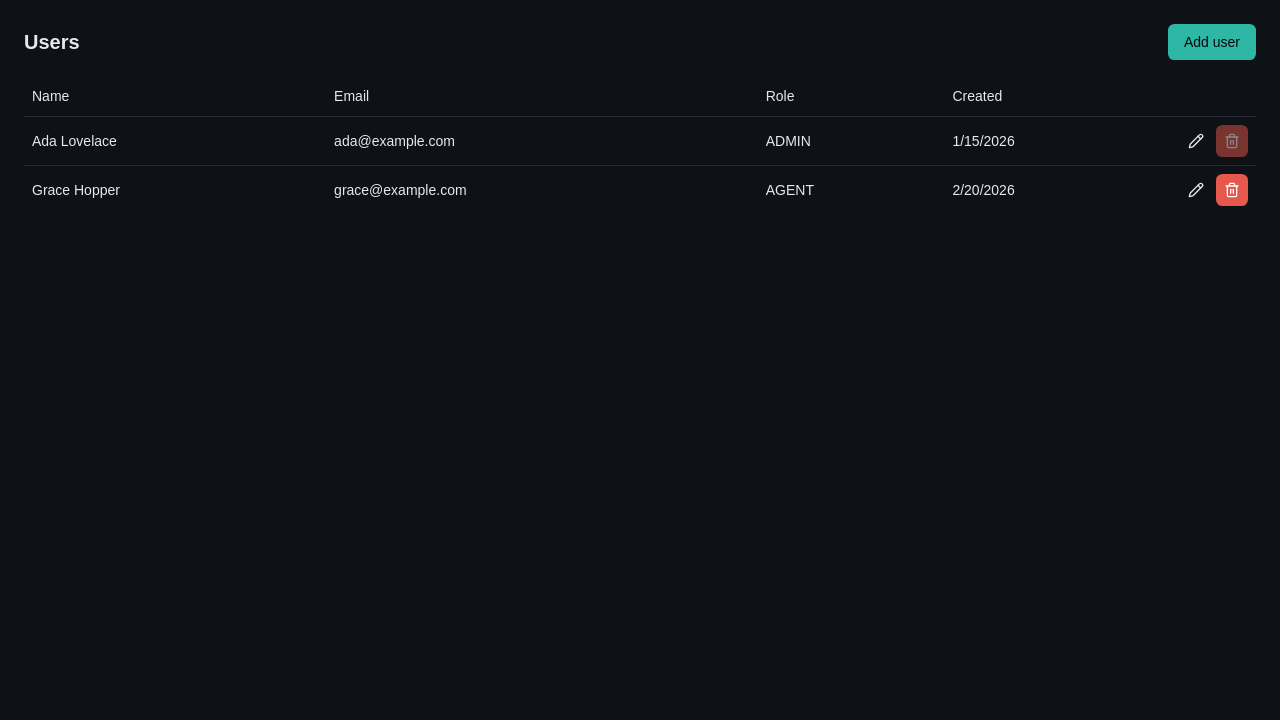
Test case: Users › deletes a user from the row's delete button after confirming
Expected: the text "Grace Hopper" is shown, [24,165,326,214]
Click the button named "Delete Grace Hopper": (1232, 190) [1216,174,1248,206]
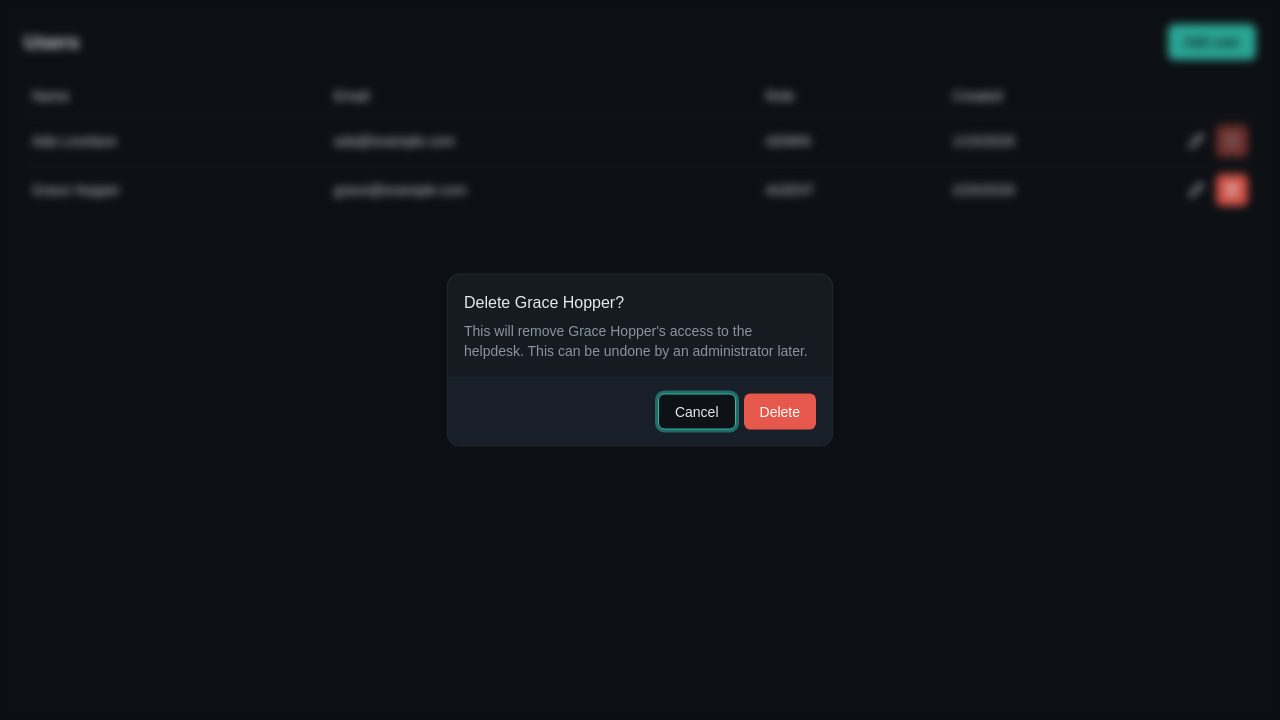
Now the heading "Delete Grace Hopper?" is shown, box [464,290,624,314]
Click the button "Delete": (780, 412) [744,394,816,430]
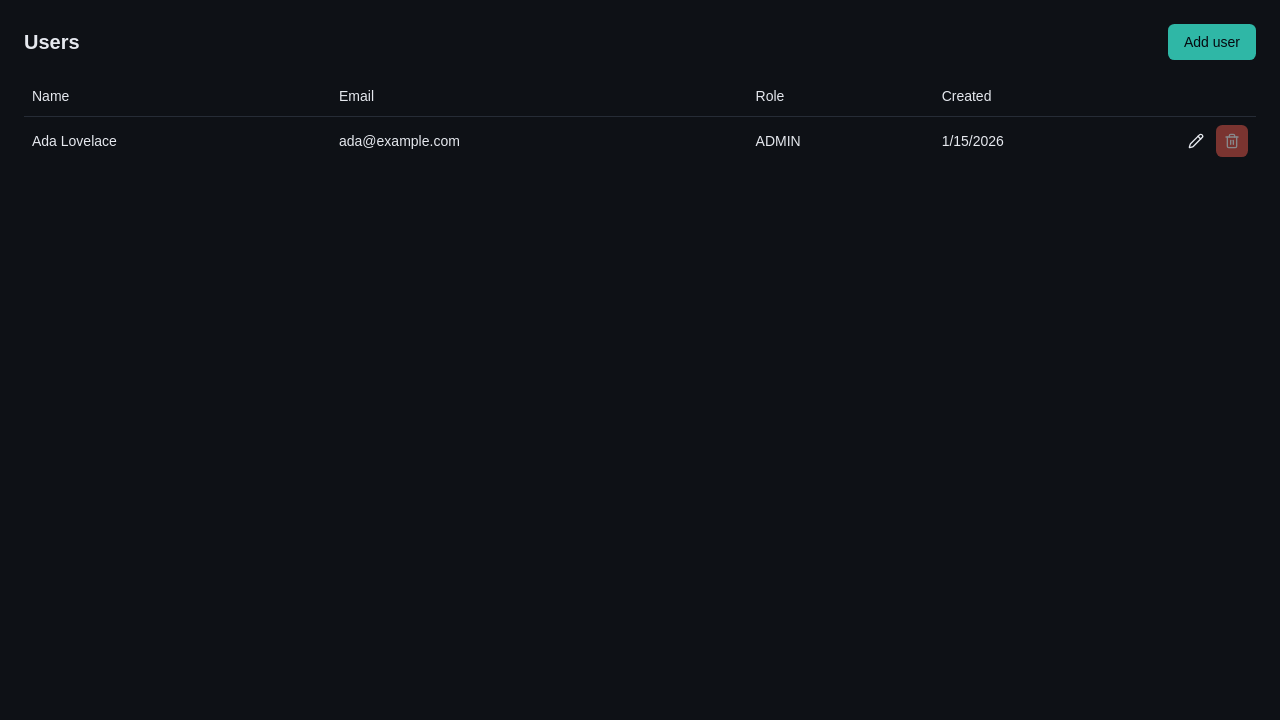
Now the dialog is gone
Now the text "Grace Hopper" is gone
